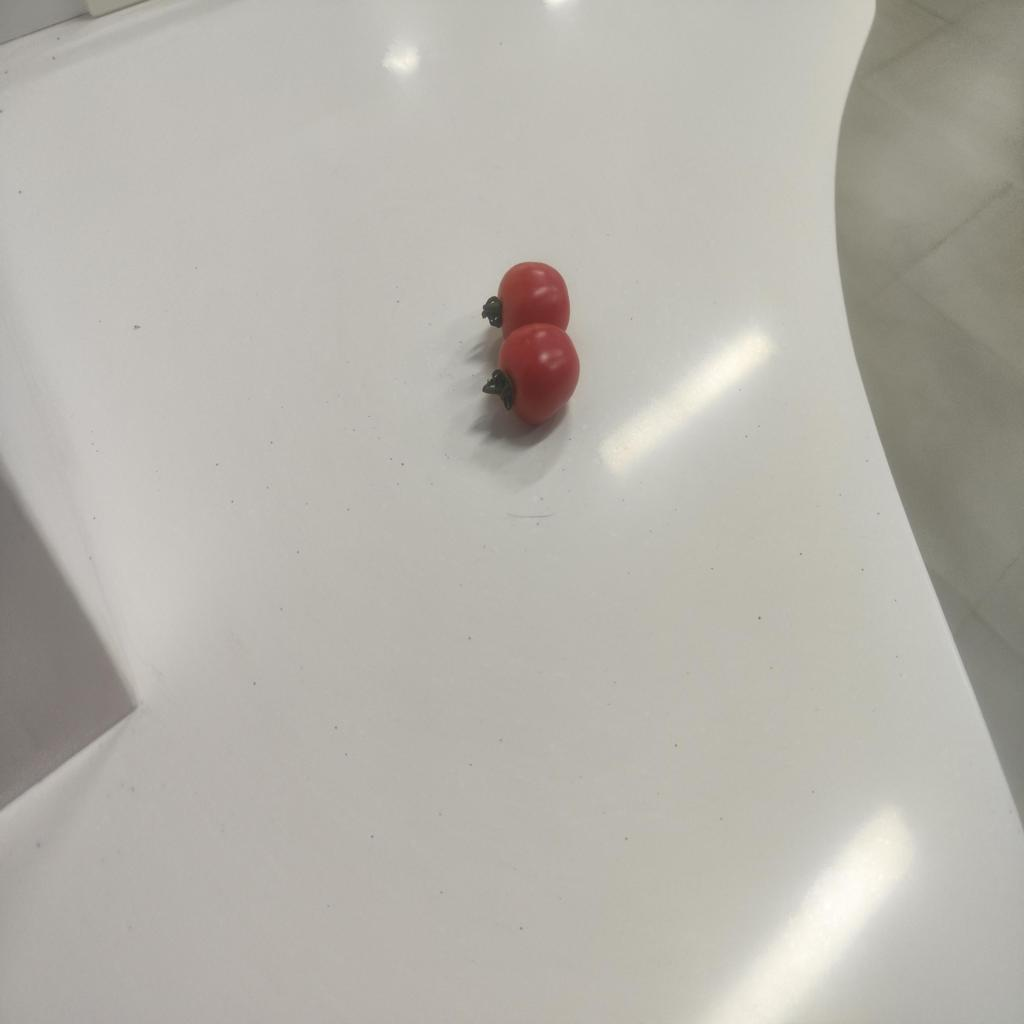tomato: (479, 323, 583, 420), (488, 264, 572, 334)
